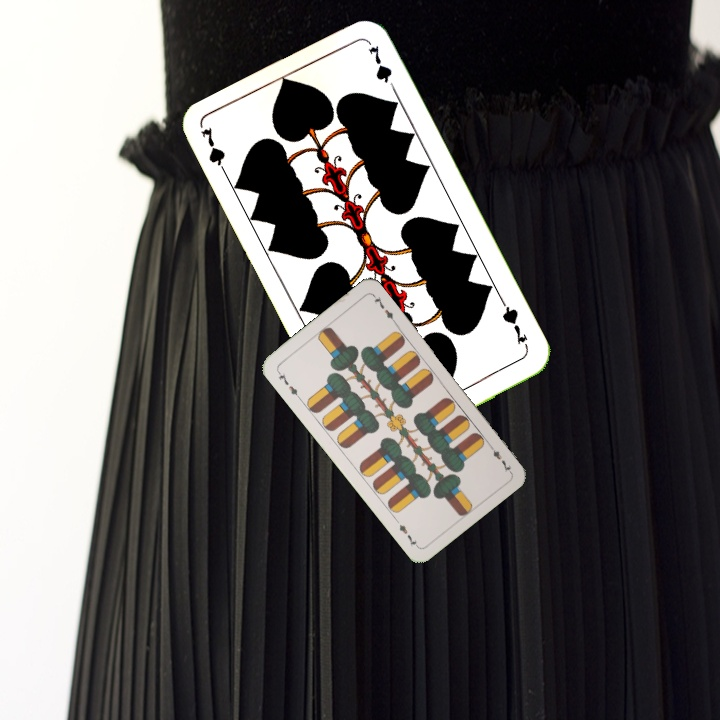E7: (484, 440, 514, 474), (273, 367, 302, 401)
G7: (197, 123, 232, 181), (498, 298, 531, 354)
